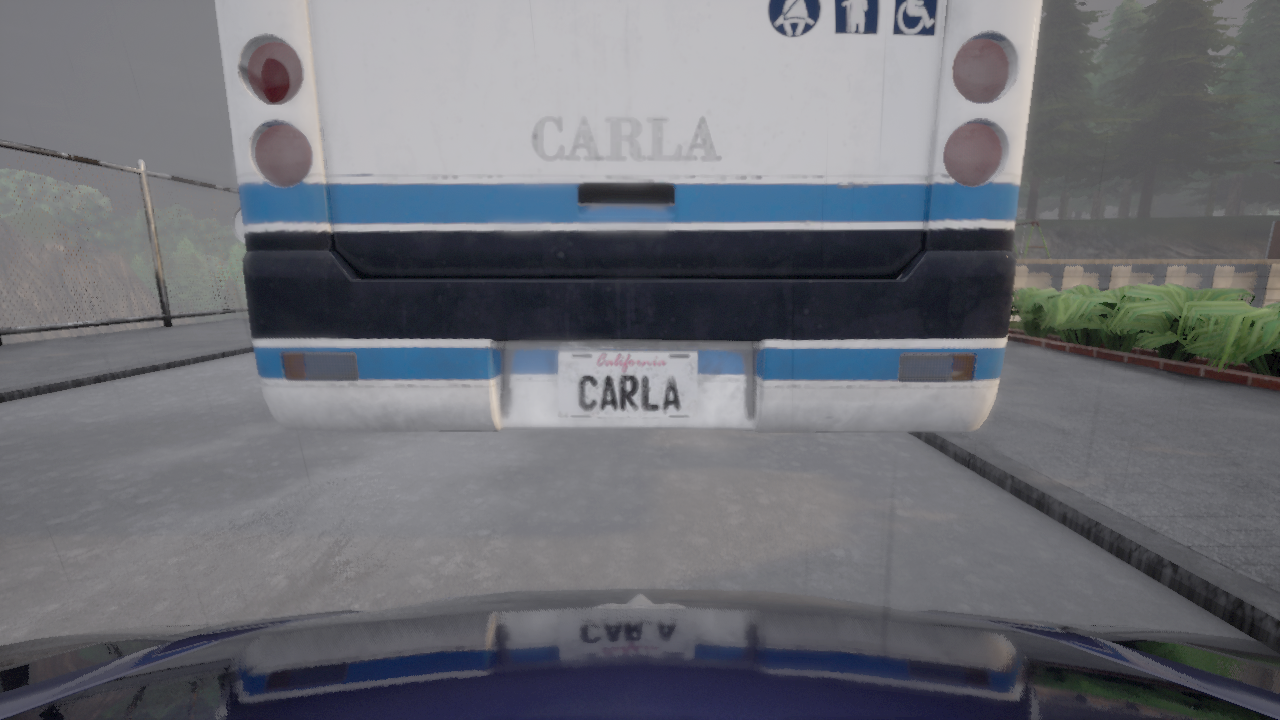cyclist: (215, 0, 1041, 432), (0, 588, 1279, 719)
